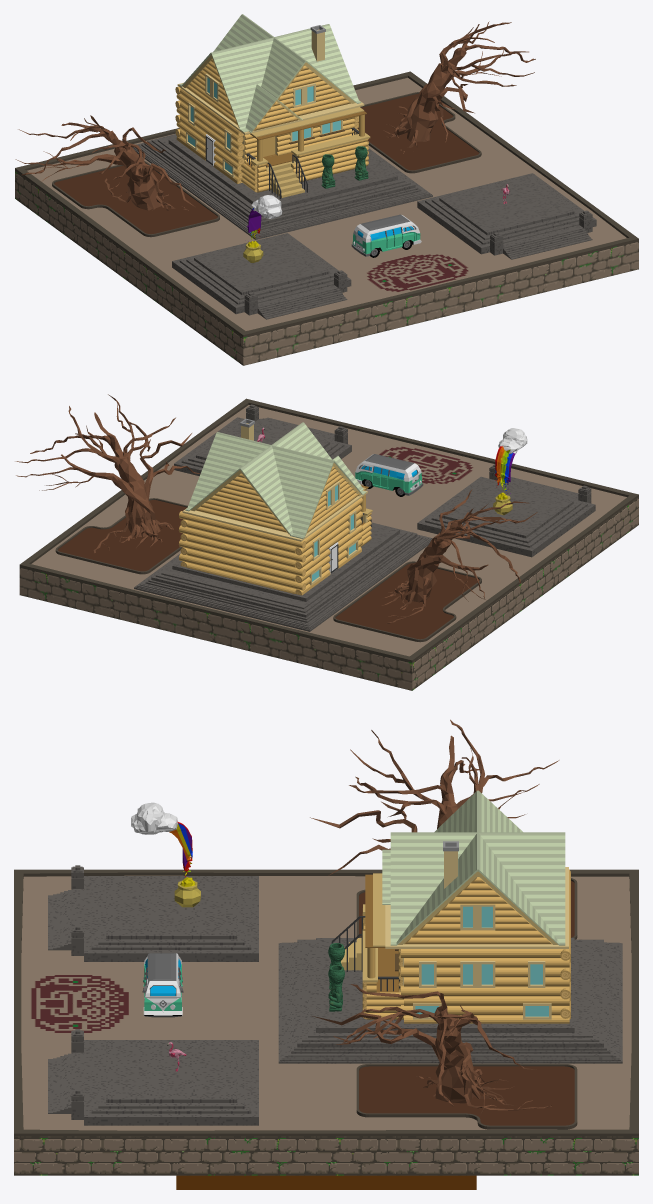
3 views of the same model, one above another, from view 1: azimuth 30°, elevation 25°; view 2: azimuth 150°, elevation 25°; view 3: azimuth 270°, elevation 25° (orthographic). The views are drawn at different scales.
Visible parts, largest first — view 1: Cube.011, Cube.1516, VEHICLES_VAN, OBJRANDOM_RAINBOW; view 2: Cube.011, Cube.1516, VEHICLES_VAN, OBJRANDOM_RAINBOW; view 3: Cube.011, Cube.1516, UNDERGROUND_ART_PIECE_VAN_GOGH, VEHICLES_VAN, OBJRANDOM_RAINBOW.
Boxes of the visible parts, box(x1,y1,x2,y2) form: Cube.011: box(15, 21, 638, 365); Cube.1516: box(175, 14, 370, 199); VEHICLES_VAN: box(351, 214, 421, 257); OBJRANDOM_RAINBOW: box(243, 195, 282, 262); Cube.011: box(15, 394, 638, 690); Cube.1516: box(179, 418, 372, 595); VEHICLES_VAN: box(355, 454, 423, 496); OBJRANDOM_RAINBOW: box(493, 428, 527, 515); Cube.011: box(14, 719, 638, 1175); Cube.1516: box(331, 790, 570, 1023); UNDERGROUND_ART_PIECE_VAN_GOGH: box(176, 1175, 476, 1189); VEHICLES_VAN: box(142, 953, 183, 1017); OBJRANDOM_RAINBOW: box(131, 802, 200, 907).
Bounding box in the file's own units: 5099 × 1784 × 4000.
Materials: 44 (7 with a texture image).
